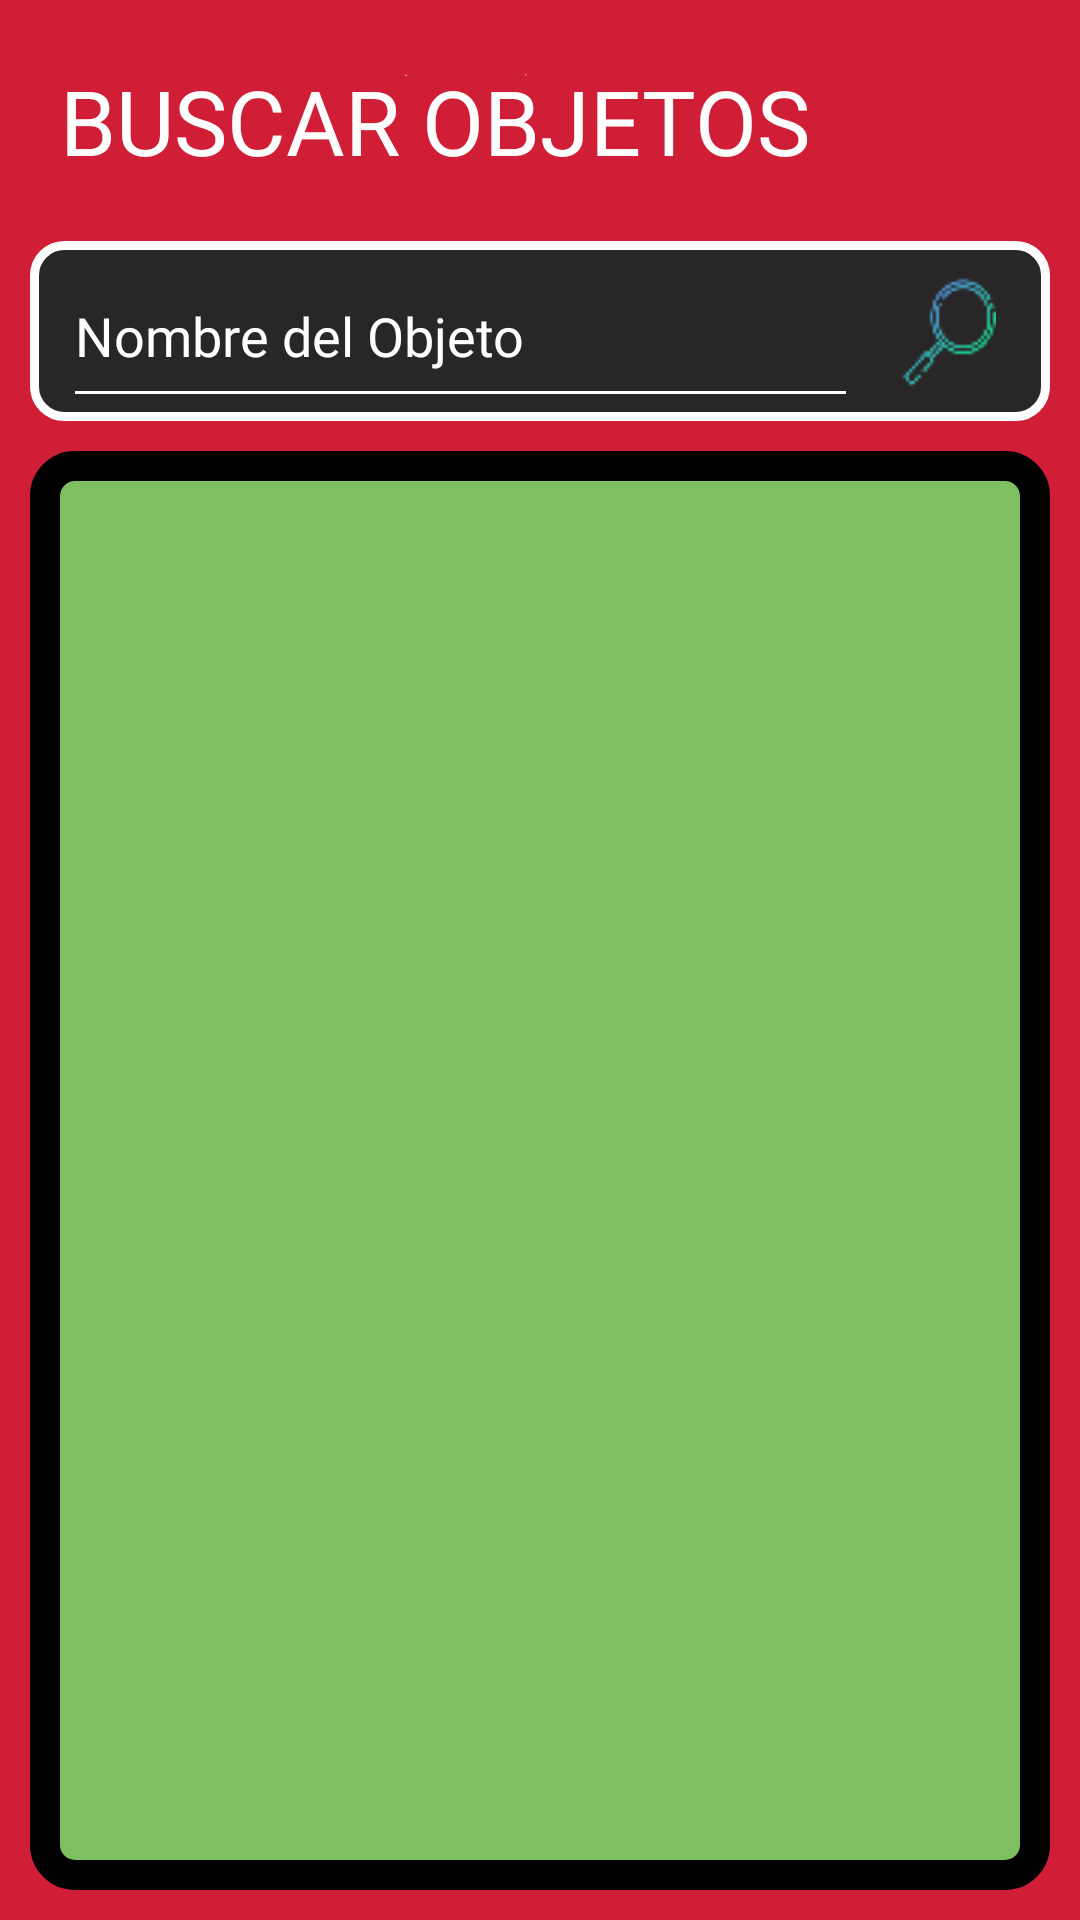

Icons on this 1080*1920 Android screen, each with its box as BBox(x1, y1, x2, y2):
lupa: BBox(902, 278, 996, 387)
